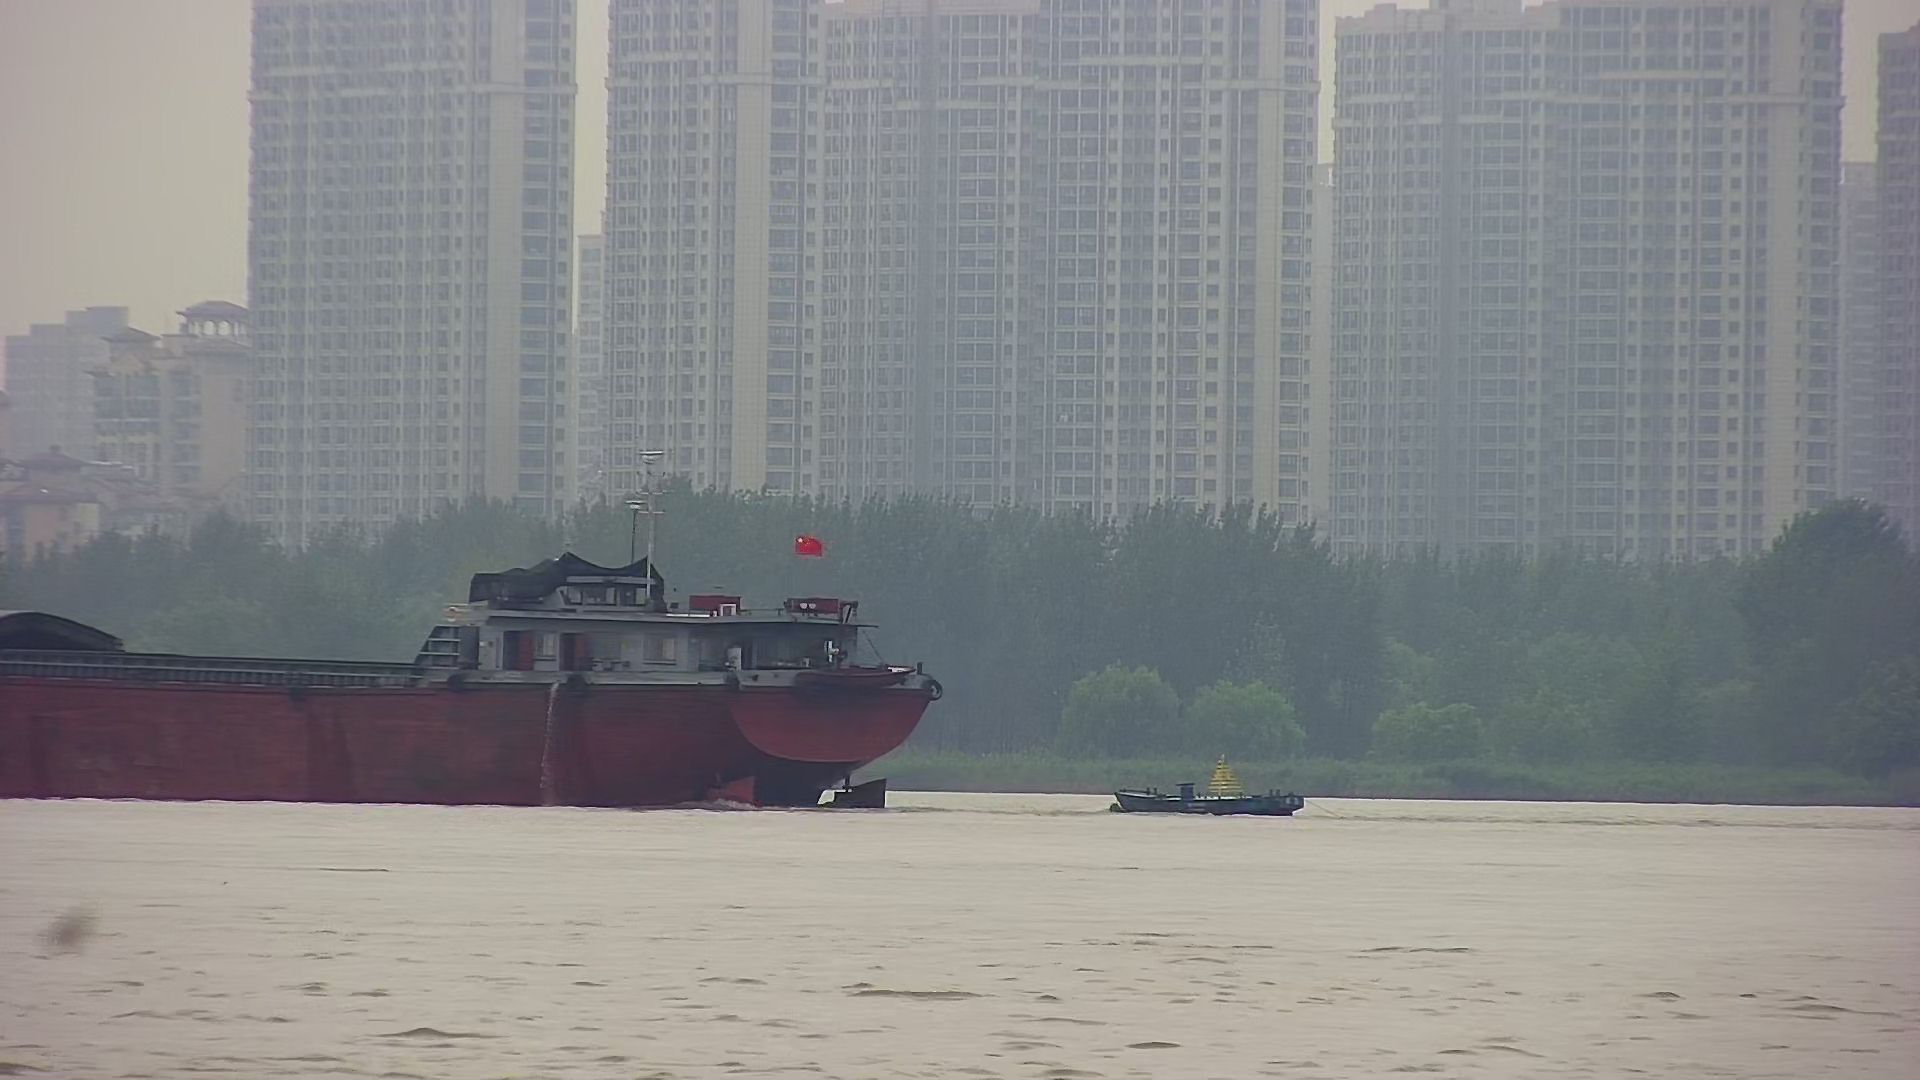boat: (1116, 754, 1304, 818)
ship: (1, 551, 945, 804)
